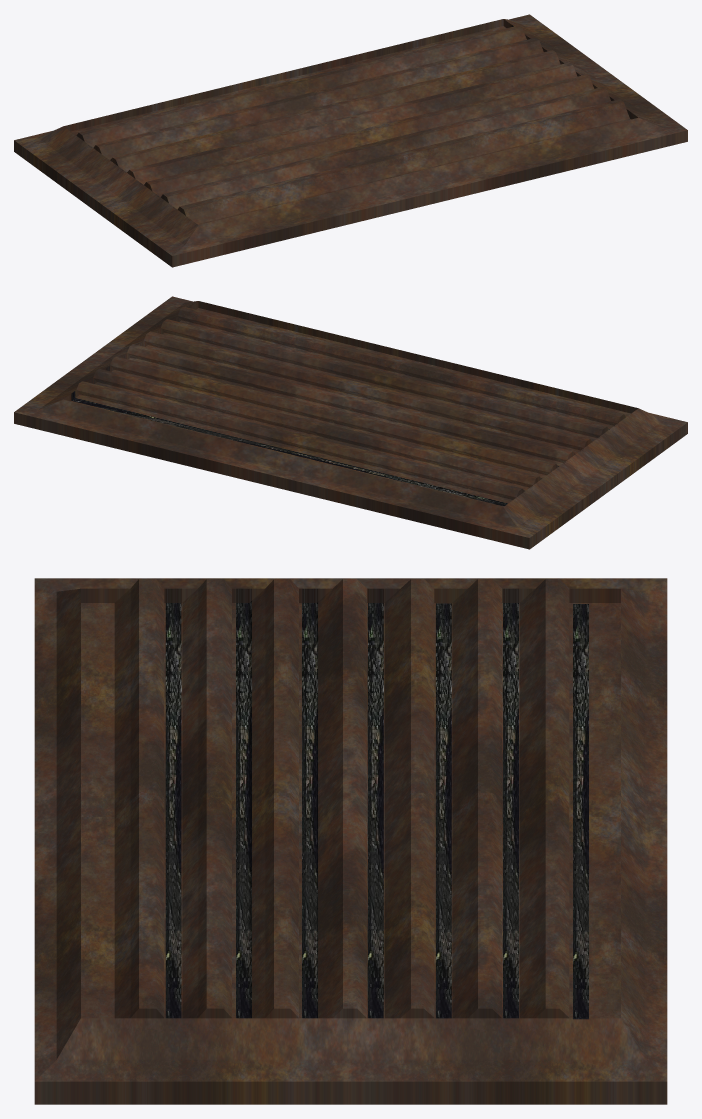
Rendered from drain.fbx.
3 views of the same model, one above another, from view 1: azimuth 30°, elevation 25°; view 2: azimuth 150°, elevation 25°; view 3: azimuth 270°, elevation 25° (orthographic). The views are drawn at different scales.
Parts seen in each view (by area): view 1: Drain; view 2: Drain; view 3: Drain.
Boxes of the visible parts, box(x1,y1,x2,y2) form: Drain: box(14, 14, 687, 267); Drain: box(14, 296, 687, 549); Drain: box(34, 578, 667, 1104).
Bounding box in the file's own units: 3.11 × 0.1829 × 1.65.
Materials: 1 (1 with a texture image).
